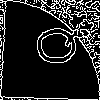Q: (25, 24, 81, 67)
